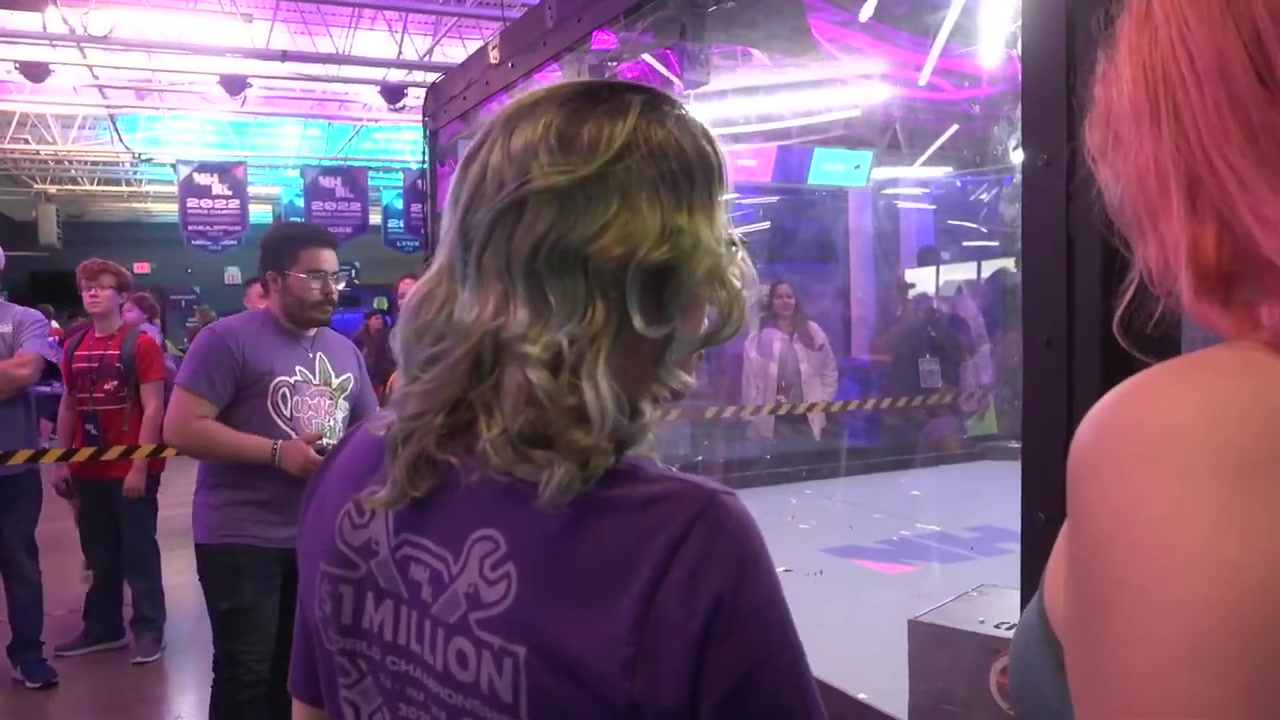housebot: (907, 585, 1019, 720)
